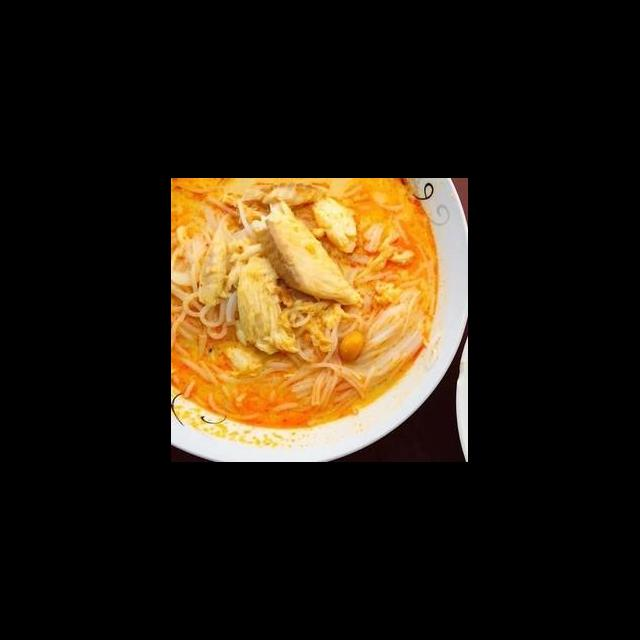bun: (174, 360, 398, 427), (368, 199, 442, 366)
bun ca: (182, 194, 468, 456)
ca: (258, 199, 366, 306), (234, 249, 300, 356), (196, 213, 238, 309), (310, 194, 360, 256)
